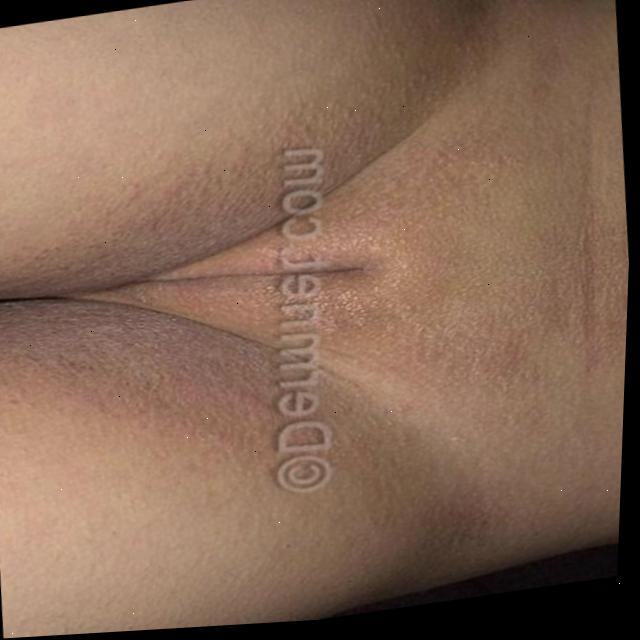Eczema: (363, 113, 634, 472), (0, 195, 273, 434)
